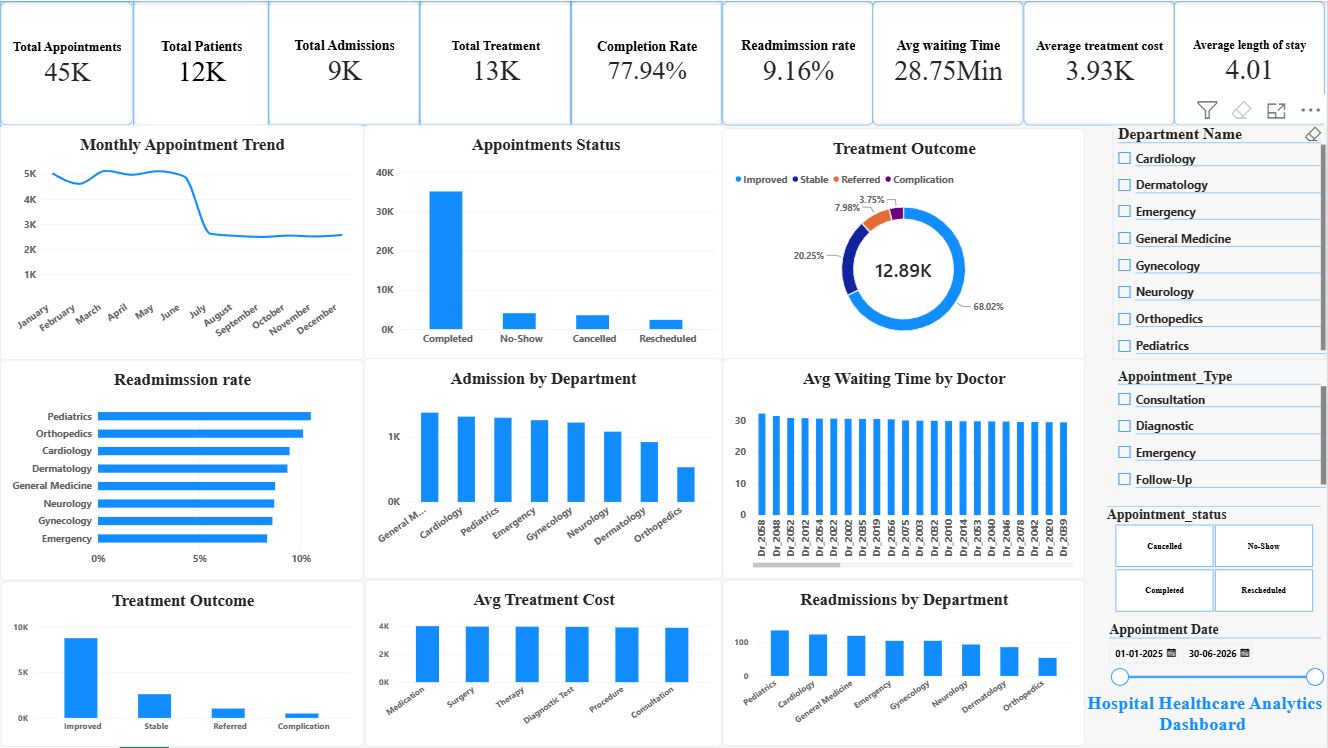

This screenshot's page, from the dashboard's own definition file:
{"tool":"powerbi","page":{"name":"Hospital Analysis","canvas":[1920,1080],"ordinal":0},"visuals":[{"type":"cardVisual","fields":{"Data":["public admissions.Total Appointments"]},"box":[0,0,193.5,181.9],"z":0},{"type":"cardVisual","fields":{"Data":["public admissions.Total Patients"]},"box":[193.6,0,195.5,181.9],"z":1000},{"type":"cardVisual","fields":{"Data":["public admissions.Total Admissions"]},"box":[389,0,218.7,180],"z":2000},{"type":"cardVisual","fields":{"Data":["public admissions.Total Treatment"]},"box":[607.7,0,218.7,180],"z":3000},{"type":"cardVisual","fields":{"Data":["public admissions.Completion Rate"]},"box":[826.5,0,218.7,180],"z":4000},{"type":"cardVisual","fields":{"Data":["public admissions.Readmimssion rate"]},"box":[1045.2,0,218.7,180],"z":5000},{"type":"cardVisual","fields":{"Data":["public admissions.Average Waiting Time Display"]},"box":[1263.9,0,218.7,180],"z":6000},{"type":"cardVisual","fields":{"Data":["public admissions.Average length of stay"]},"box":[1699.7,0,218.7,180],"z":7000},{"type":"cardVisual","fields":{"Data":["public admissions.Average treatment cost"]},"box":[1482.6,0,218.7,180],"z":8000},{"type":"clusteredColumnChart","title":"Appointments Status ","fields":{"Category":["public appointments.appointment_status"],"Y":["CountNonNull(public appointments.appointment_id)"]},"box":[526.5,180,526.5,340.6],"z":9000},{"type":"lineChart","title":"Monthly Appointment Trend","fields":{"Category":["public appointments.appointment_date.Variation.Date Hierarchy.Month"],"Y":["CountNonNull(public appointments.appointment_id)"]},"box":[0,179.2,526.5,340.6],"z":10000},{"type":"clusteredBarChart","title":"Readmimssion rate","fields":{"Category":["public departments.department_name"],"Y":["public admissions.Readmimssion rate"]},"box":[0,519.4,526.5,319.4],"z":11000},{"type":"clusteredColumnChart","title":"Admission by Department ","fields":{"Category":["public departments.department_name"],"Y":["CountNonNull(public admissions.admission_id)"]},"box":[526.6,517.6,518.8,319.4],"z":12000},{"type":"clusteredColumnChart","title":"Avg Treatment Cost","fields":{"Category":["public treatments.treatment_type"],"Y":["public admissions.Average treatment cost"]},"box":[528.5,838.2,516.9,242],"z":13000},{"type":"clusteredColumnChart","title":"Treatment Outcome ","fields":{"Category":["public treatments.treatment_outcome"],"Y":["CountNonNull(public treatments.treatment_id)"]},"box":[1.9,840,524.5,240],"z":14000},{"type":"slicer","fields":{"Values":["public departments.department_name"]},"box":[1610.7,180,309.7,338.8],"z":15000},{"type":"slicer","fields":{"Values":["public appointments.appointment_status"]},"box":[1595.2,731.8,325.2,154.9],"z":16000},{"type":"slicer","fields":{"Values":["public appointments.appointment_type"]},"box":[1610.7,532.4,309.7,180],"z":17000},{"type":"slicer","fields":{"Values":["public appointments.appointment_date"]},"box":[1597.1,900.2,322,160],"z":18000},{"type":"donutChart","title":"Treatment Outcome ","fields":{"Category":["public treatments.treatment_outcome"],"Y":["CountNonNull(public treatments.treatment_id)"]},"box":[1045.4,183.9,524.6,336.8],"z":19000},{"type":"clusteredColumnChart","title":"Readmissions by Department","fields":{"Category":["public departments.department_name"],"Y":["public admissions.Readmissions"]},"box":[1046,837.9,524.6,240],"z":20000},{"type":"textbox","box":[1570.8,1000.7,347.5,79.6],"z":21000},{"type":"clusteredColumnChart","title":"Avg Waiting Time by Doctor","fields":{"Y":["public admissions.Average waiting time"],"Category":["public doctors.doctor_name"]},"box":[1045.4,516.9,524.6,319.4],"z":22000}]}

Visuals, with their boxes in screenshot pixels (x1, y1, x2, y2), scaled from the page's 1920x1080 canvas onto the 1328x748 screenshot:
cardVisual - public admissions.Total Appointments: crop(0, 0, 134, 126)
cardVisual - public admissions.Total Patients: crop(134, 0, 269, 126)
cardVisual - public admissions.Total Admissions: crop(269, 0, 420, 125)
cardVisual - public admissions.Total Treatment: crop(420, 0, 572, 125)
cardVisual - public admissions.Completion Rate: crop(572, 0, 723, 125)
cardVisual - public admissions.Readmimssion rate: crop(723, 0, 874, 125)
cardVisual - public admissions.Average Waiting Time Display: crop(874, 0, 1025, 125)
cardVisual - public admissions.Average length of stay: crop(1176, 0, 1327, 125)
cardVisual - public admissions.Average treatment cost: crop(1025, 0, 1177, 125)
"Appointments Status " clusteredColumnChart: crop(364, 125, 728, 361)
"Monthly Appointment Trend" lineChart: crop(0, 124, 364, 360)
"Readmimssion rate" clusteredBarChart: crop(0, 360, 364, 581)
"Admission by Department " clusteredColumnChart: crop(364, 358, 723, 580)
"Avg Treatment Cost" clusteredColumnChart: crop(366, 581, 723, 747)
"Treatment Outcome " clusteredColumnChart: crop(1, 582, 364, 747)
slicer - public departments.department_name: crop(1114, 125, 1327, 359)
slicer - public appointments.appointment_status: crop(1103, 507, 1327, 614)
slicer - public appointments.appointment_type: crop(1114, 369, 1327, 493)
slicer - public appointments.appointment_date: crop(1105, 623, 1327, 734)
"Treatment Outcome " donutChart: crop(723, 127, 1086, 361)
"Readmissions by Department" clusteredColumnChart: crop(723, 580, 1086, 747)
textbox: crop(1086, 693, 1327, 747)
"Avg Waiting Time by Doctor" clusteredColumnChart: crop(723, 358, 1086, 579)
